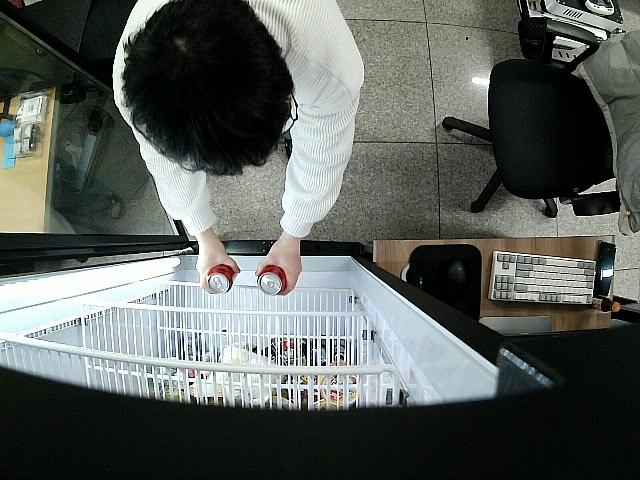00_hand: (256, 231, 303, 298), (196, 236, 241, 294)
11_cocaColaZero: (204, 262, 239, 295), (258, 265, 289, 297)
